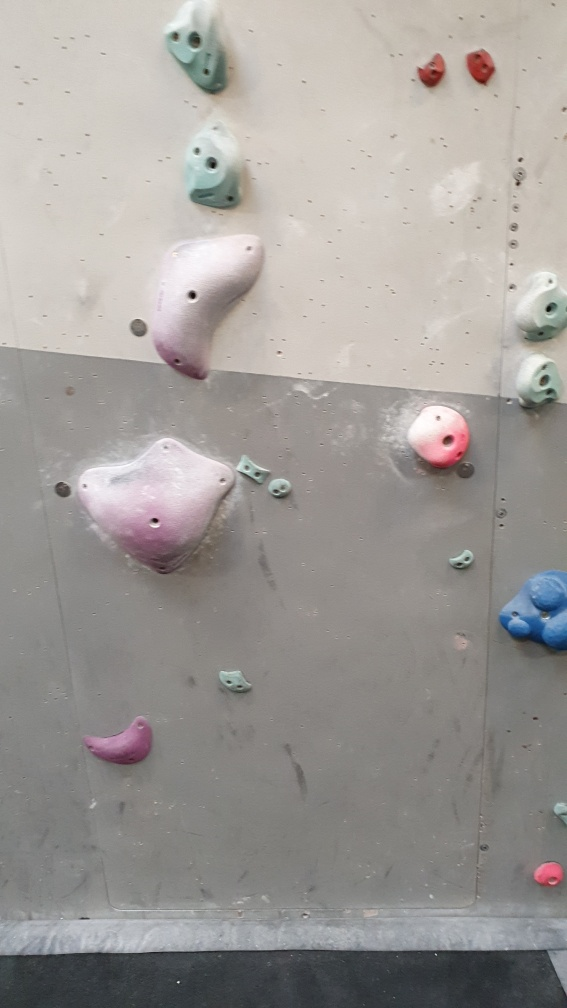Hand Start: (453, 460, 476, 485)
Jug: (158, 1, 239, 98), (184, 115, 249, 210), (512, 269, 567, 348), (512, 352, 561, 415)
Pinch: (231, 452, 273, 484)
Sloper: (501, 568, 567, 652), (530, 856, 564, 890)
